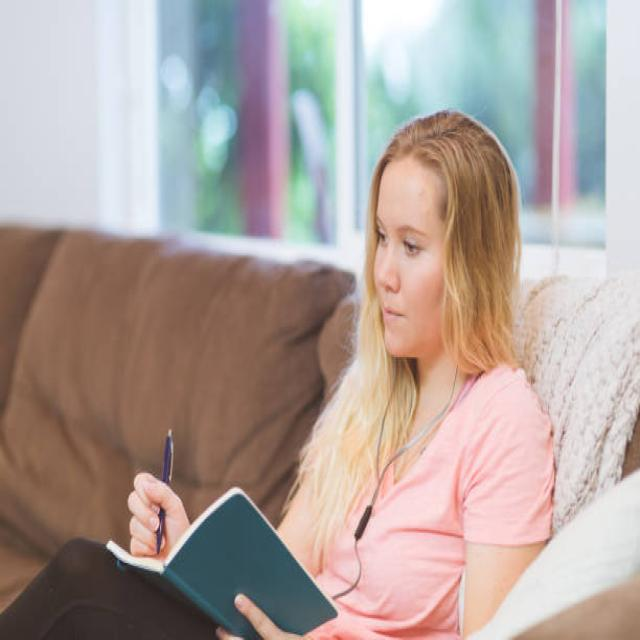Earphone: (329, 355, 462, 602)
